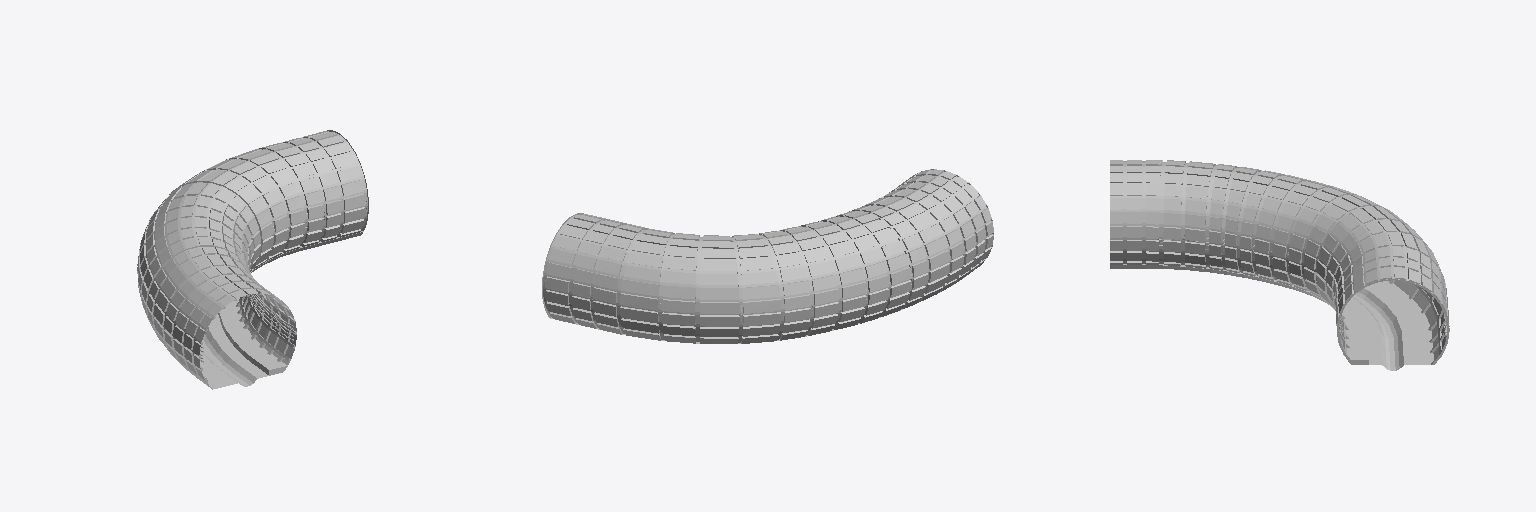
The model's file is tunnel1TurnRight.obj.
3 renders of one model, left to right at view 1: azimuth 30°, elevation 25°; view 2: azimuth 150°, elevation 25°; view 3: azimuth 270°, elevation 25°, orthographic.
Parts seen in each view (by area): view 1: Cylinder_Cylinder.001; view 2: Cylinder_Cylinder.001; view 3: Cylinder_Cylinder.001.
Boxes of the visible parts, x1=… form: Cylinder_Cylinder.001: x1=137, y1=130, x2=368, y2=389; Cylinder_Cylinder.001: x1=542, y1=169, x2=993, y2=343; Cylinder_Cylinder.001: x1=1110, y1=160, x2=1449, y2=370.
Bounding box in the file's own units: 2.6 × 0.8063 × 2.7.